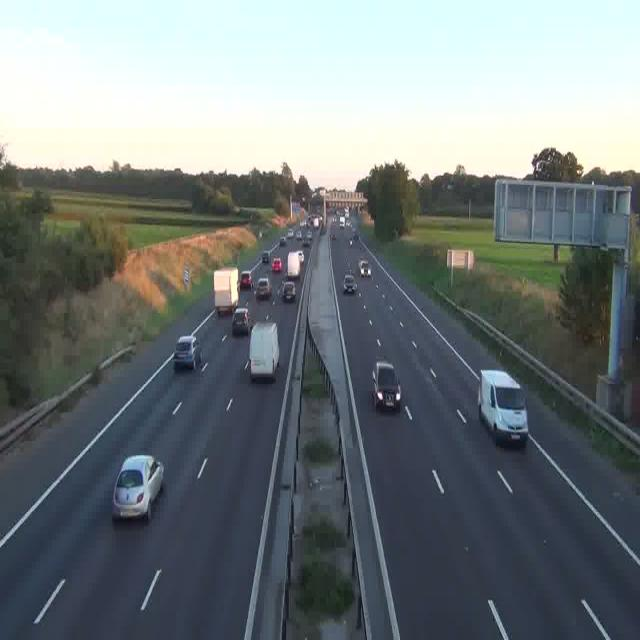car: (478, 369, 528, 446), (112, 454, 164, 521), (372, 360, 402, 411), (174, 334, 202, 371), (232, 309, 251, 335), (256, 276, 272, 298), (343, 272, 357, 293), (240, 270, 252, 289), (359, 258, 370, 276), (272, 257, 282, 273), (260, 252, 270, 264), (300, 240, 308, 252), (305, 233, 313, 244), (280, 234, 288, 245)
truck: (249, 320, 280, 381), (214, 268, 240, 318), (286, 256, 302, 292)
